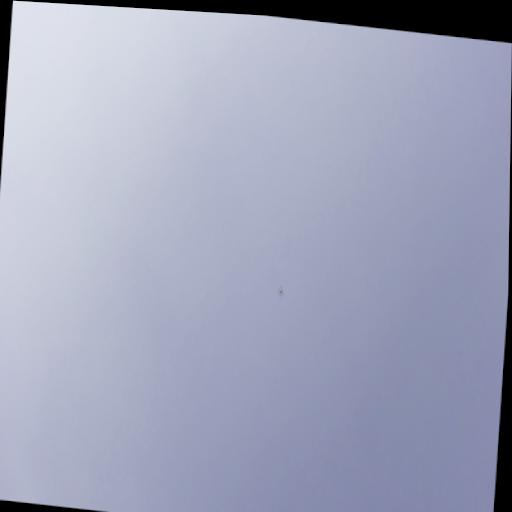drones: (277, 285, 286, 299)
